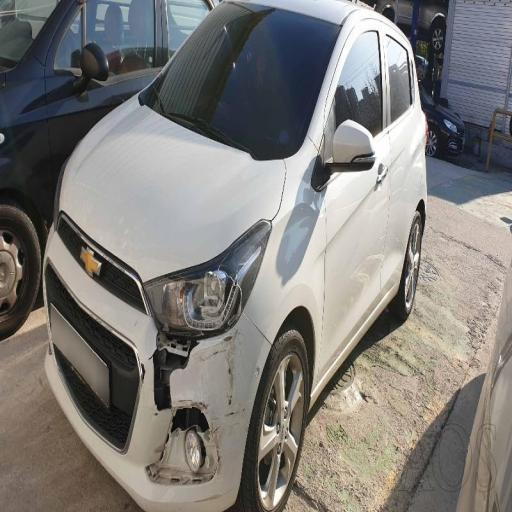broken: (128, 322, 217, 490)
scratch: (193, 294, 272, 430)
